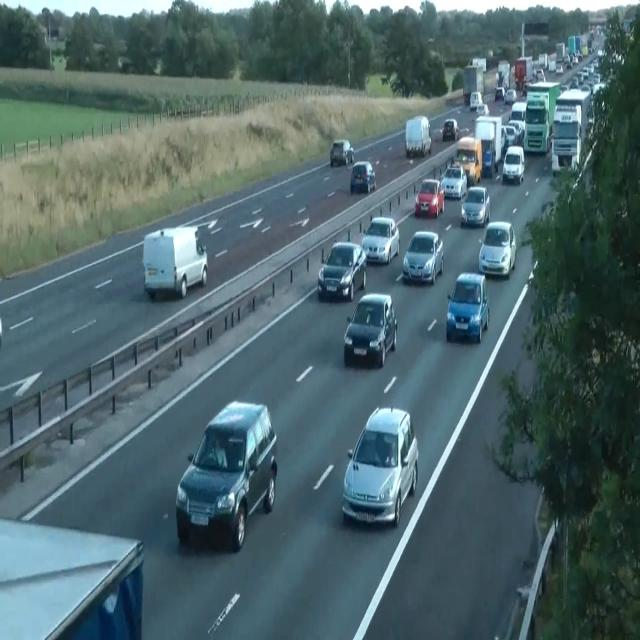bus: (0, 517, 144, 639), (342, 405, 418, 527), (343, 292, 398, 368), (446, 271, 490, 343), (317, 241, 367, 301), (402, 230, 444, 284), (478, 221, 516, 279), (361, 215, 399, 265), (460, 185, 490, 228), (414, 178, 444, 218), (439, 163, 467, 200), (350, 161, 376, 195), (330, 139, 354, 167), (441, 118, 459, 142), (504, 124, 516, 148), (469, 91, 483, 110), (475, 103, 489, 117), (504, 89, 516, 104), (494, 86, 505, 102), (536, 68, 546, 82), (555, 64, 563, 75)
jeep: (175, 399, 278, 550), (142, 224, 208, 300), (502, 145, 524, 185)
minibus: (551, 86, 594, 177), (522, 81, 560, 154), (474, 115, 502, 177), (456, 136, 482, 185), (405, 115, 431, 157), (462, 65, 484, 105), (514, 56, 534, 91), (494, 60, 510, 102), (567, 34, 583, 60), (468, 57, 486, 72), (555, 43, 565, 62)
